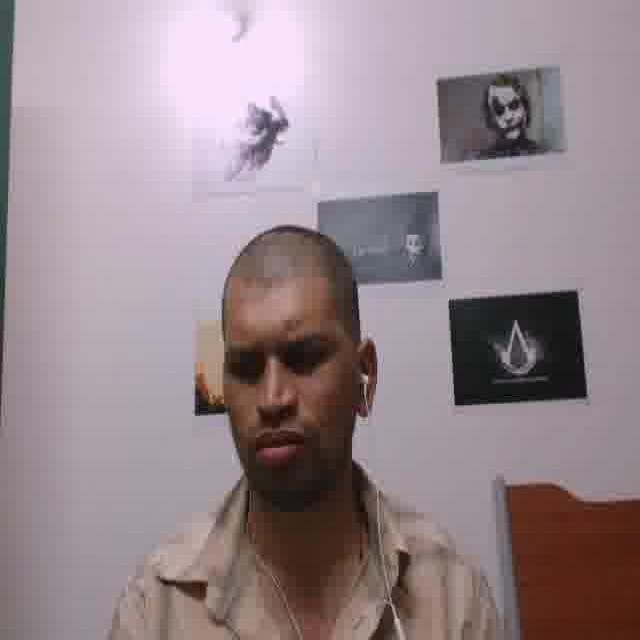Confusion: (218, 272, 349, 491)
